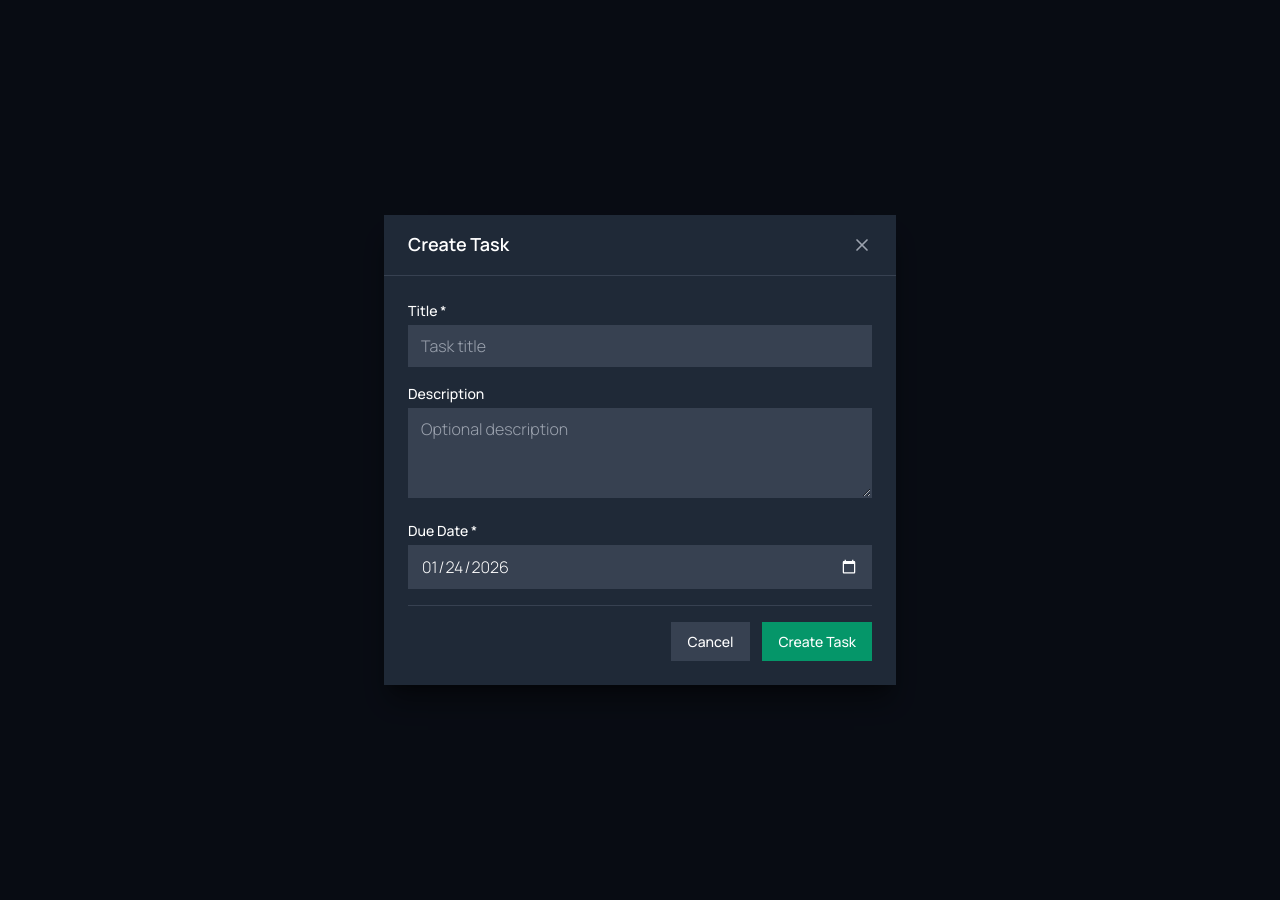
Test: CreateTaskModal › form validation › shows error when due date is empty
Note: Fill title
Type "Test Task" into the field with placeholder "Task title" at (640, 346), box [408,325,872,367]
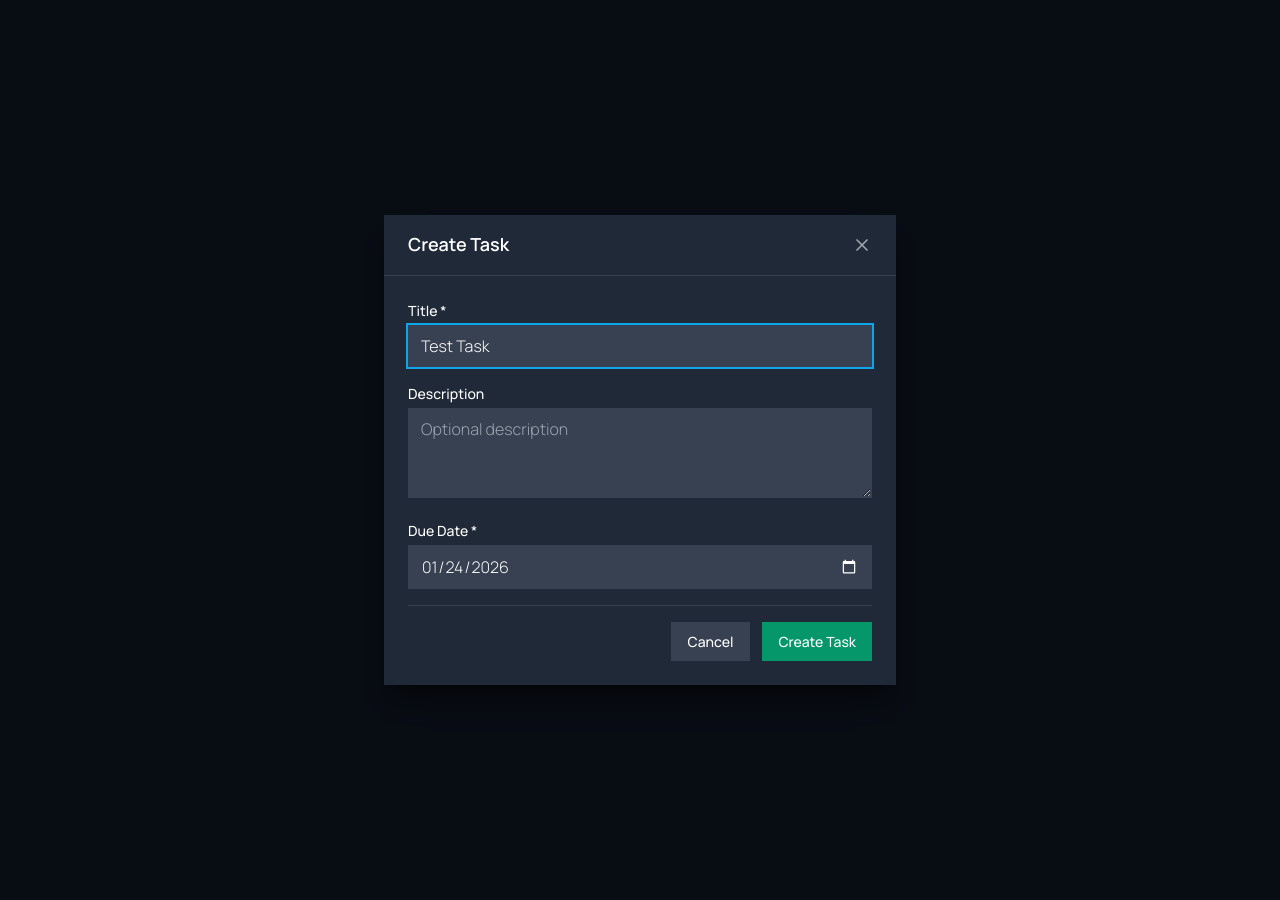
Clear the date field labelled "Due Date *" at (640, 567), box [408,545,872,589]
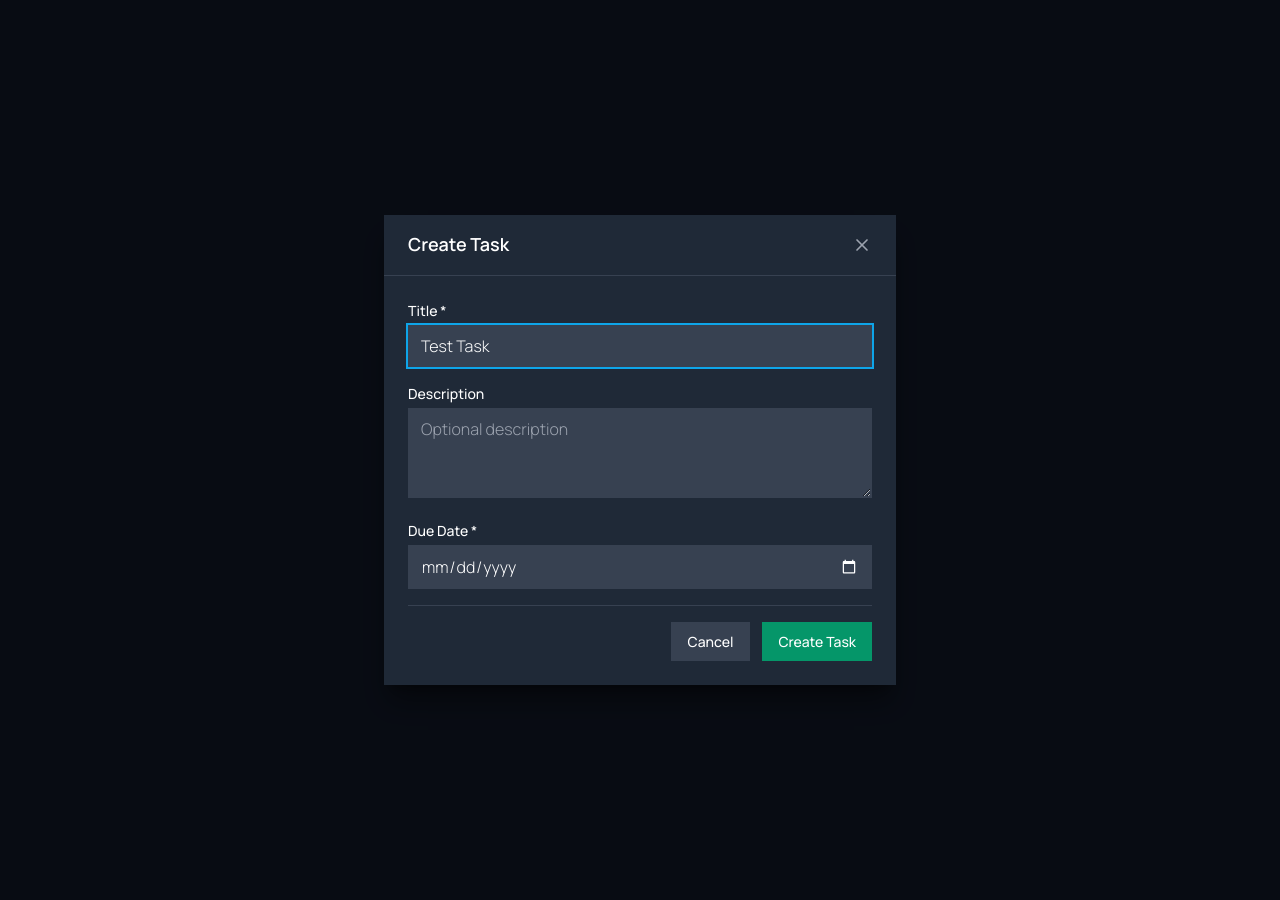
Note: Submit form
Click the button "Create Task" at (817, 642), box [762,622,872,661]
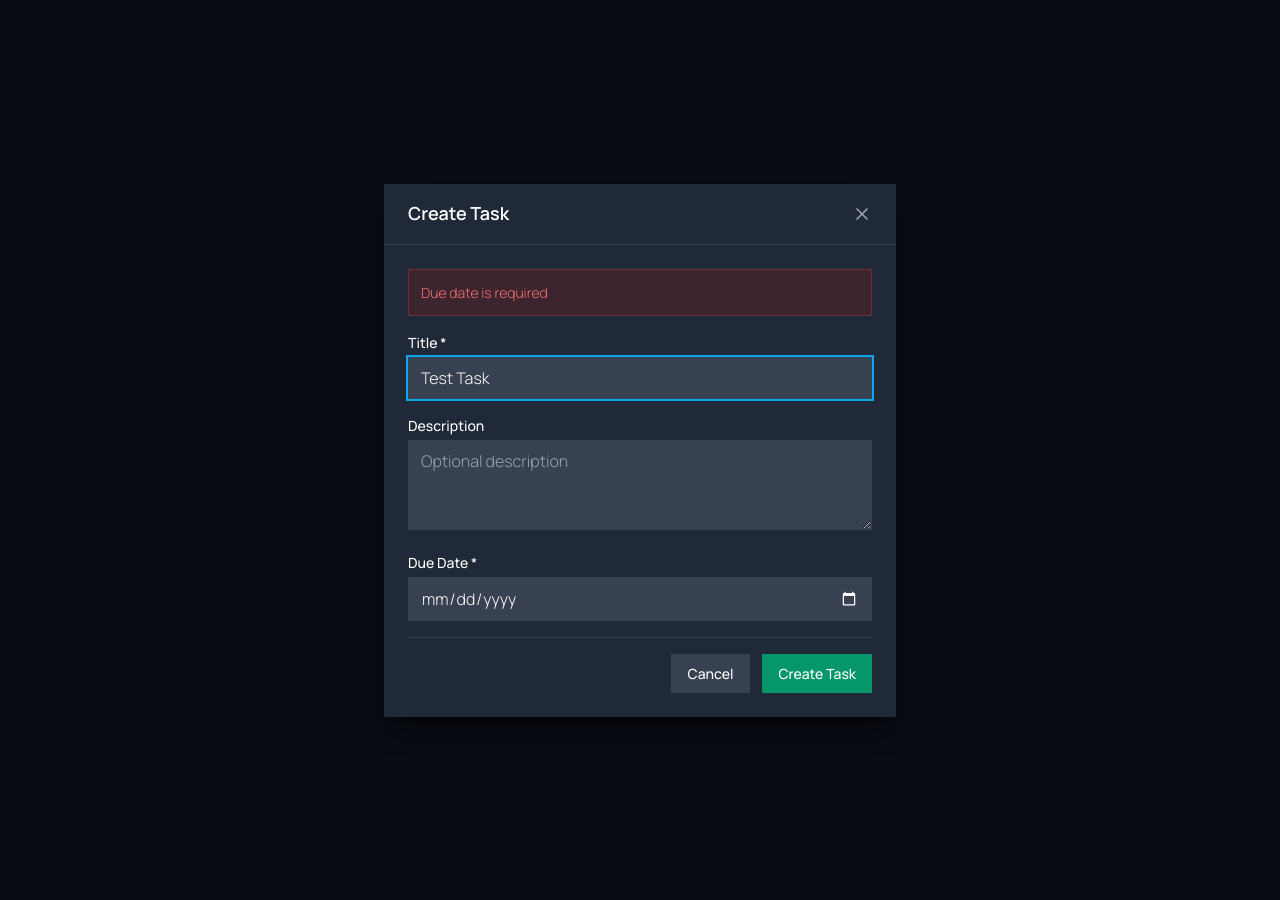
expect the text "Due date is required" is shown: met, box [408,268,872,316]
